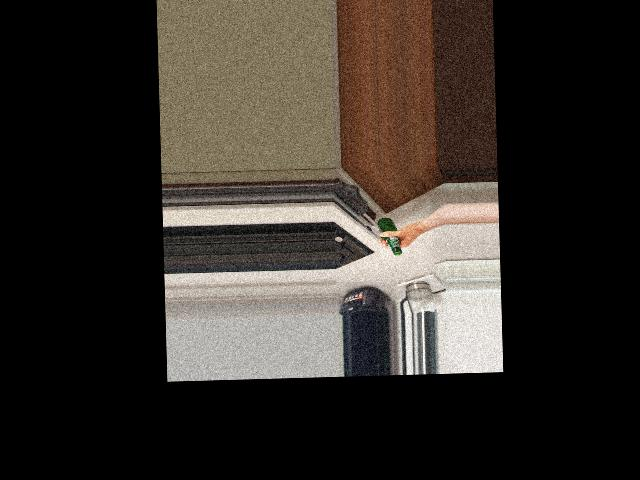beer: (377, 216, 402, 255)
